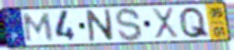4: (54, 9, 80, 45)
M: (22, 12, 55, 44)
N: (84, 9, 115, 43)
Q: (177, 5, 212, 40)
S: (114, 7, 144, 43)
X: (150, 6, 181, 40)
